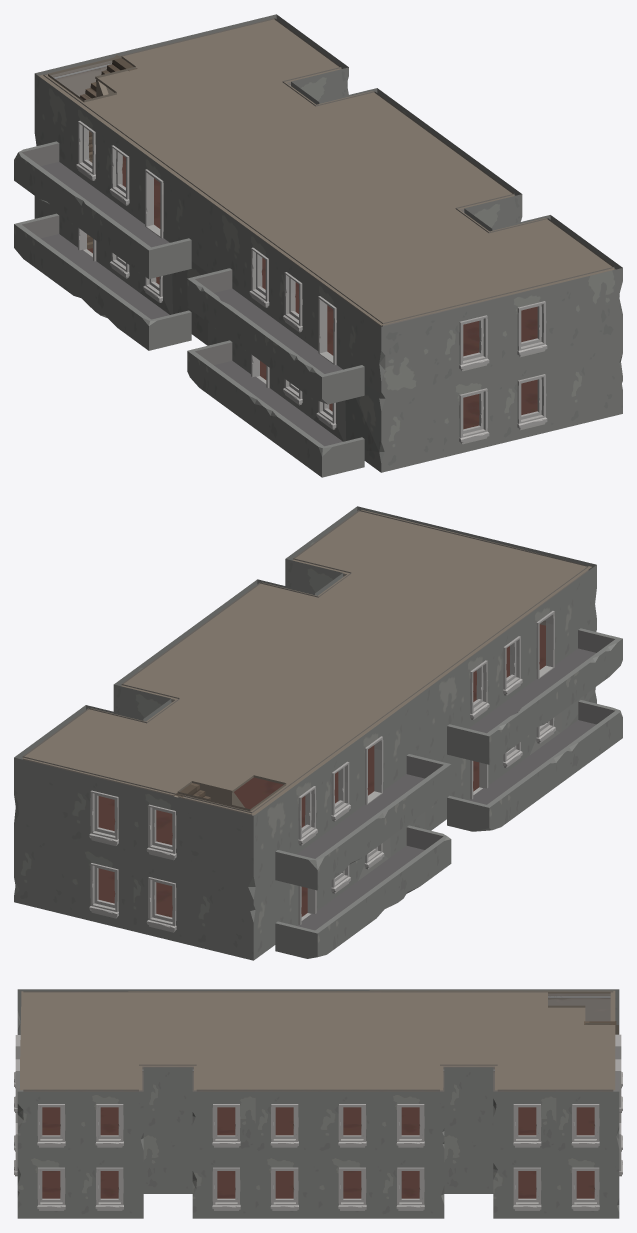
Rendered from apoc_SM_Bld_HighRise_Large_01_Interior_Stack_01.gltf.
The picture shows the model from 3 angles, top to bottom: view 1: azimuth 30°, elevation 25°; view 2: azimuth 150°, elevation 25°; view 3: azimuth 270°, elevation 25°; orthographic projection. The views are drawn at different scales.
Visible parts, largest first — view 1: SM_Bld_HighRise_Large_01_Interior_Stack_01; view 2: SM_Bld_HighRise_Large_01_Interior_Stack_01; view 3: SM_Bld_HighRise_Large_01_Interior_Stack_01.
Part boxes in pixels (bbox=[...]): SM_Bld_HighRise_Large_01_Interior_Stack_01: bbox=[14, 14, 622, 477]; SM_Bld_HighRise_Large_01_Interior_Stack_01: bbox=[14, 506, 622, 960]; SM_Bld_HighRise_Large_01_Interior_Stack_01: bbox=[14, 989, 622, 1218].
Size of the model in its own units: 12.39 by 6.31 by 26.1.
1 material, 1 textured.
